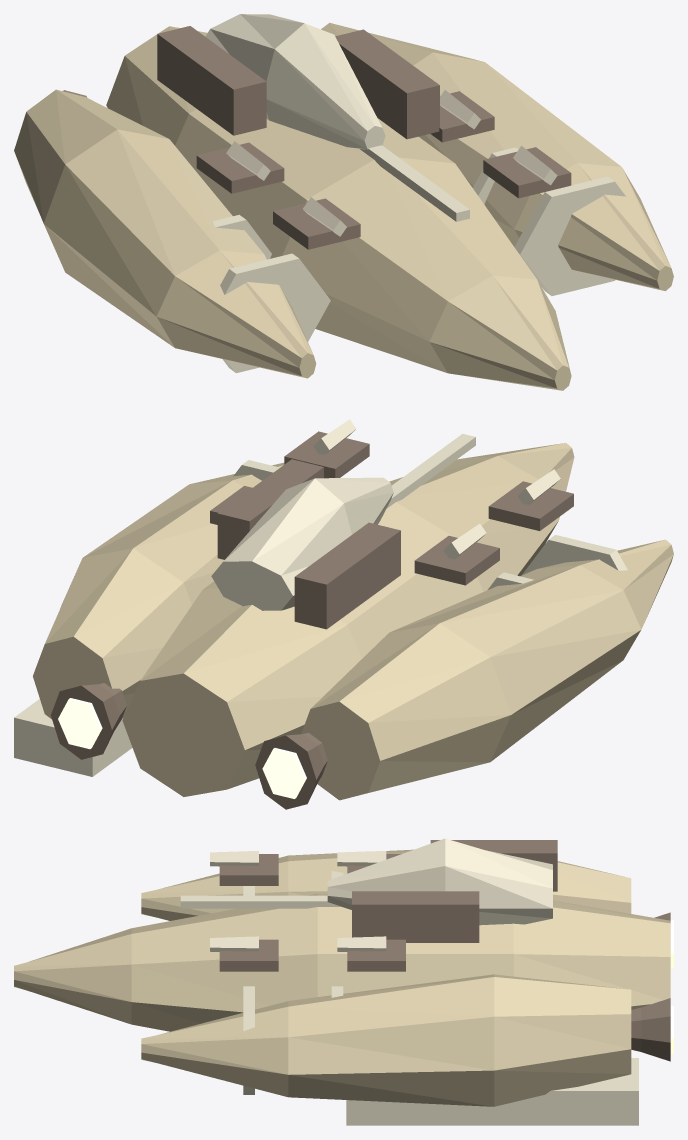
3 renders of one model, top to bottom at view 1: azimuth 30°, elevation 25°; view 2: azimuth 150°, elevation 25°; view 3: azimuth 270°, elevation 25°, orthographic. The views are drawn at different scales.
Size of the model in its own units: 8.79 by 4.42 by 12.45.
